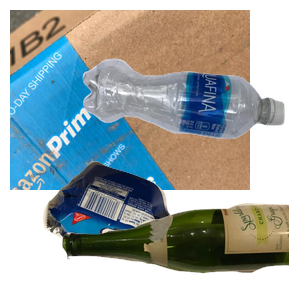cardboard: (10, 10, 250, 190)
glass: (60, 201, 300, 300)
plastic: (80, 56, 300, 187)
trash: (40, 158, 245, 300)
